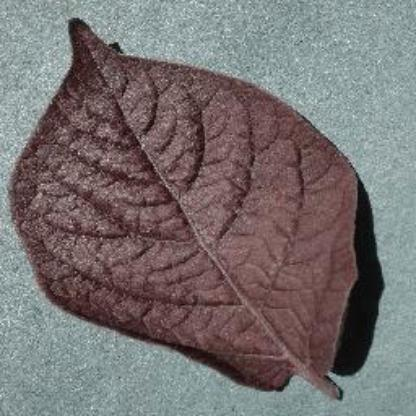Healthy-plant: (11, 9, 369, 404)
